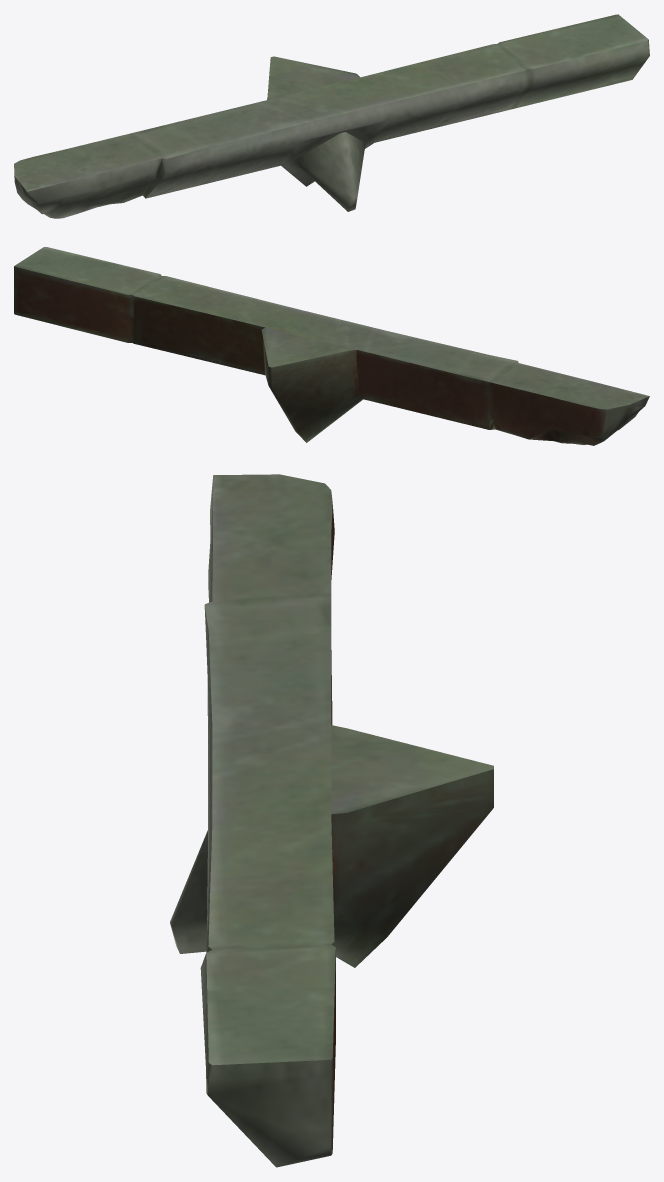
The model's file is Ruins_Trim_Top_DMG_2M_A.fbx.
3 views of the same model, one above another, from view 1: azimuth 30°, elevation 25°; view 2: azimuth 150°, elevation 25°; view 3: azimuth 270°, elevation 25° (orthographic). The views are drawn at different scales.
Visible parts, largest first — view 1: Ruins_Trim_Top_DMG_2M_A; view 2: Ruins_Trim_Top_DMG_2M_A; view 3: Ruins_Trim_Top_DMG_2M_A.
Boxes of the visible parts, x1=… form: Ruins_Trim_Top_DMG_2M_A: x1=14, y1=14, x2=649, y2=218; Ruins_Trim_Top_DMG_2M_A: x1=14, y1=247, x2=649, y2=445; Ruins_Trim_Top_DMG_2M_A: x1=170, y1=474, x2=493, y2=1167.
Bounding box in the file's own units: 510 × 81.24 × 118.
